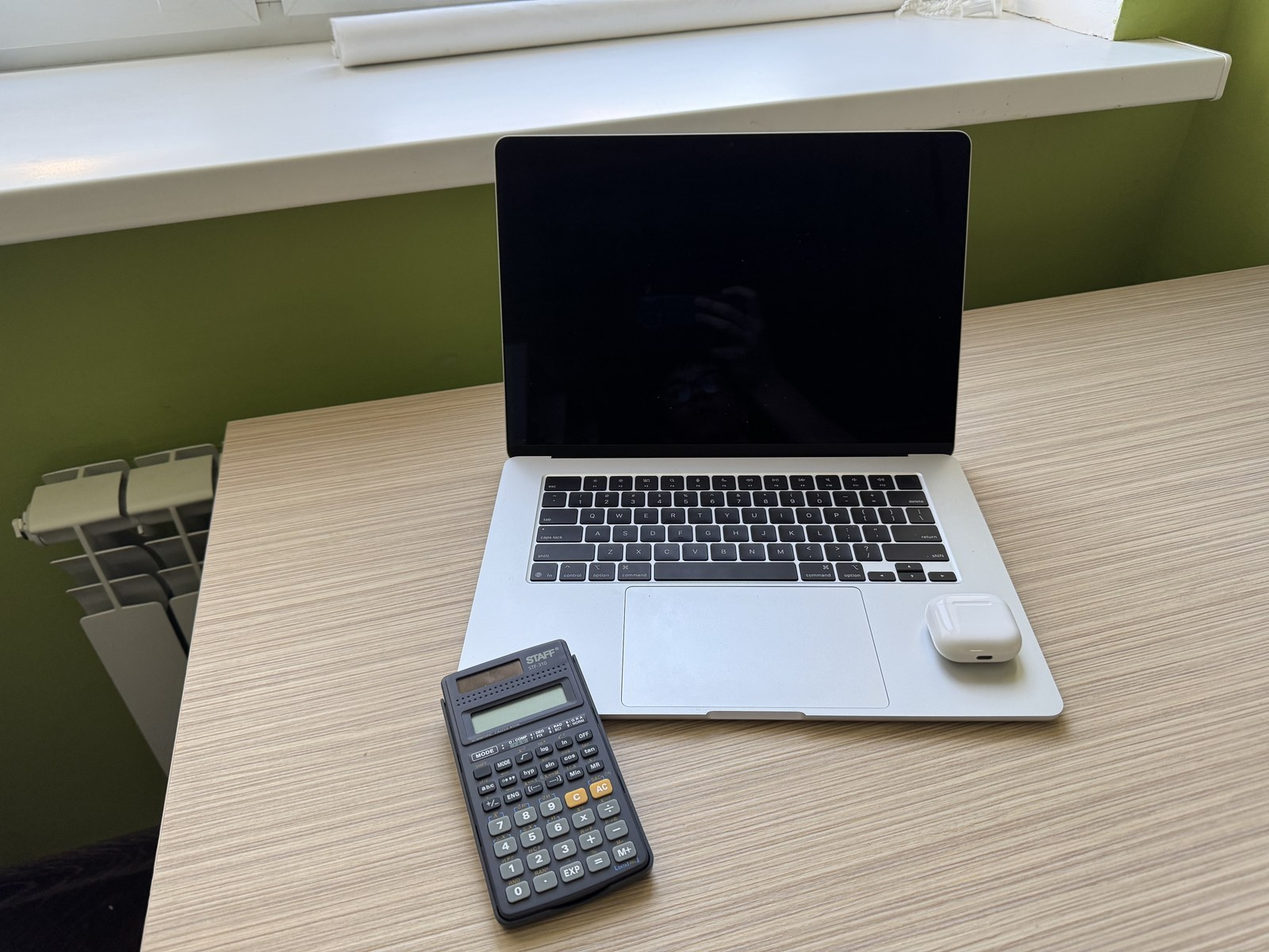laptop: (456, 130, 1065, 722)
